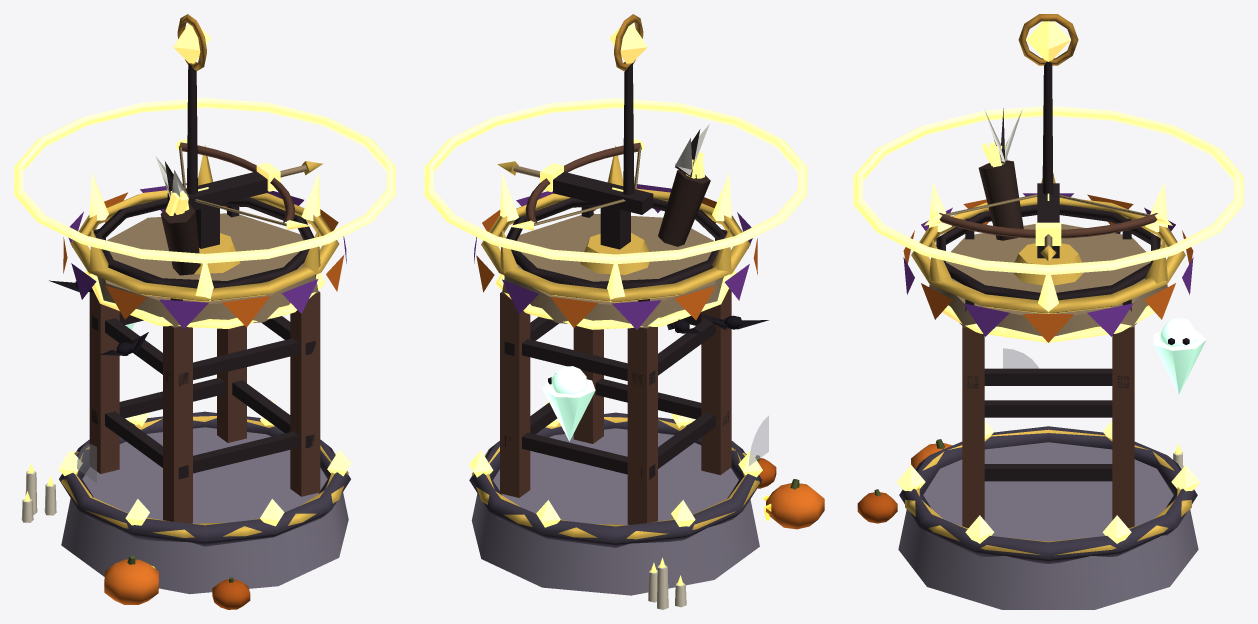
File: tower_archer_eagleEye_ultimate.glb
3 views of the same model, side by side, from view 1: azimuth 30°, elevation 25°; view 2: azimuth 150°, elevation 25°; view 3: azimuth 270°, elevation 25° (orthographic). The views are drawn at different scales.
Visible parts, largest first — view 1: base, ult_halo, deck, base_rim, post_wn, post_en, ult_crown_band, post_ws, deco_hw_bunting, rail, post_es, deco_hw_jack_body (+21 smaller); view 2: base, ult_halo, deck, base_rim, post_ws, post_es, ult_crown_band, post_wn, deco_hw_bunting, rail, quiver, stock (+21 smaller); view 3: base, ult_halo, base_rim, deck, ult_crown_band, deco_hw_bunting, post_en, post_es, rail, beam_z_0_w, beam_z_0_e, beam_z_1_e (+14 smaller).
Boxes of the visible parts, x1=… form: base: x1=61, y1=427, x2=348, y2=594; ult_halo: x1=14, y1=98, x2=395, y2=263; deck: x1=97, y1=213, x2=318, y2=327; base_rim: x1=59, y1=411, x2=350, y2=546; post_wn: x1=163, y1=326, x2=192, y2=523; post_en: x1=290, y1=291, x2=320, y2=496; ult_crown_band: x1=70, y1=188, x2=339, y2=301; post_ws: x1=89, y1=291, x2=119, y2=473; deco_hw_bunting: x1=63, y1=183, x2=346, y2=329; rail: x1=94, y1=197, x2=314, y2=288; post_es: x1=217, y1=325, x2=246, y2=442; deco_hw_jack_body: x1=104, y1=559, x2=158, y2=604; base: x1=471, y1=428, x2=759, y2=595; ult_halo: x1=424, y1=98, x2=807, y2=264; deck: x1=502, y1=213, x2=723, y2=327; base_rim: x1=469, y1=412, x2=762, y2=547; post_ws: x1=627, y1=326, x2=657, y2=524; post_es: x1=500, y1=292, x2=530, y2=497; ult_crown_band: x1=481, y1=188, x2=750, y2=302; post_wn: x1=701, y1=288, x2=731, y2=475; deco_hw_bunting: x1=474, y1=184, x2=757, y2=329; rail: x1=506, y1=197, x2=726, y2=288; quiver: x1=658, y1=170, x2=710, y2=246; stock: x1=553, y1=172, x2=653, y2=214; base: x1=898, y1=442, x2=1198, y2=609; ult_halo: x1=853, y1=106, x2=1243, y2=274; base_rim: x1=899, y1=426, x2=1197, y2=563; deck: x1=929, y1=224, x2=1167, y2=336; ult_crown_band: x1=911, y1=197, x2=1185, y2=313; deco_hw_bunting: x1=903, y1=193, x2=1193, y2=342; post_en: x1=962, y1=326, x2=984, y2=528; post_es: x1=1112, y1=326, x2=1134, y2=528; rail: x1=936, y1=204, x2=1160, y2=300; beam_z_0_w: x1=984, y1=400, x2=1112, y2=417; beam_z_0_e: x1=984, y1=464, x2=1112, y2=481; beam_z_1_e: x1=984, y1=368, x2=1112, y2=385.
Bounding box in the file's own units: 0.434 × 0.64 × 0.4274.
